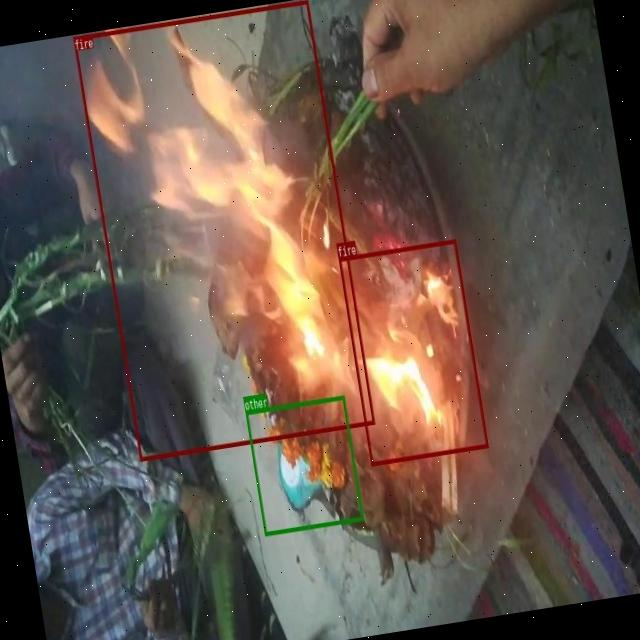fire: (72, 0, 374, 461), (338, 239, 488, 465)
